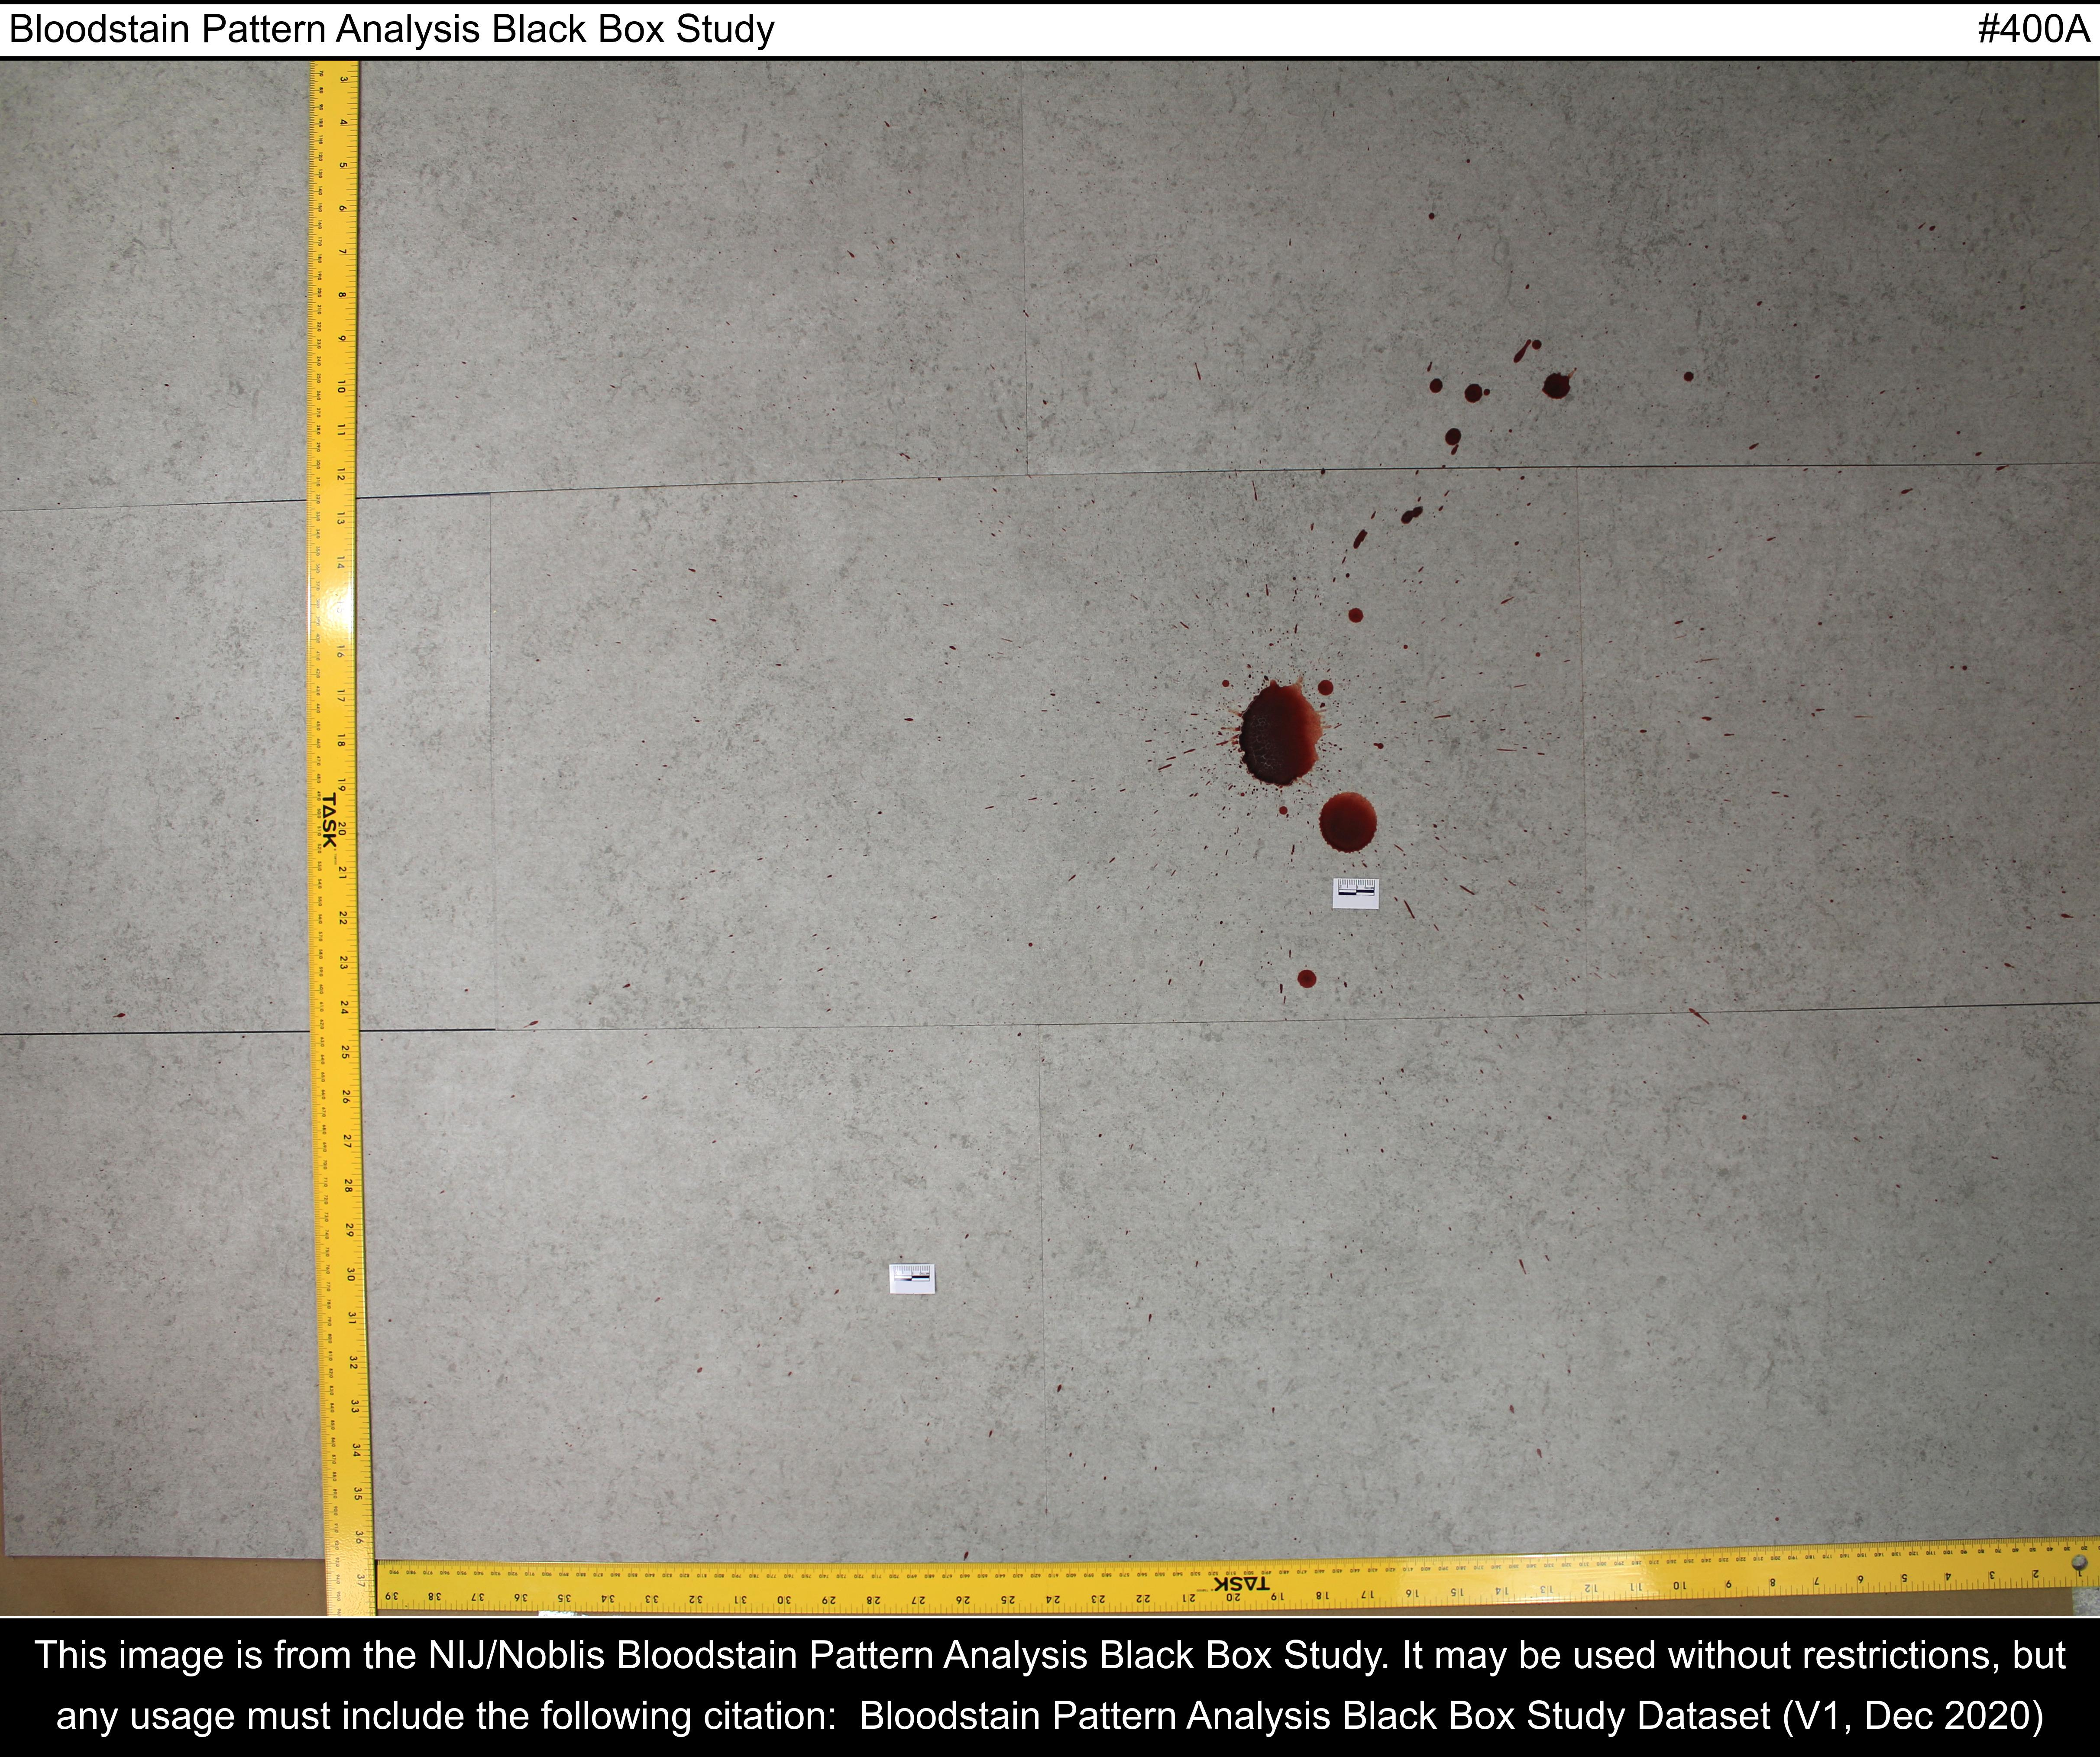Passive: (1167, 281, 1803, 862), (1299, 961, 1327, 1012)
